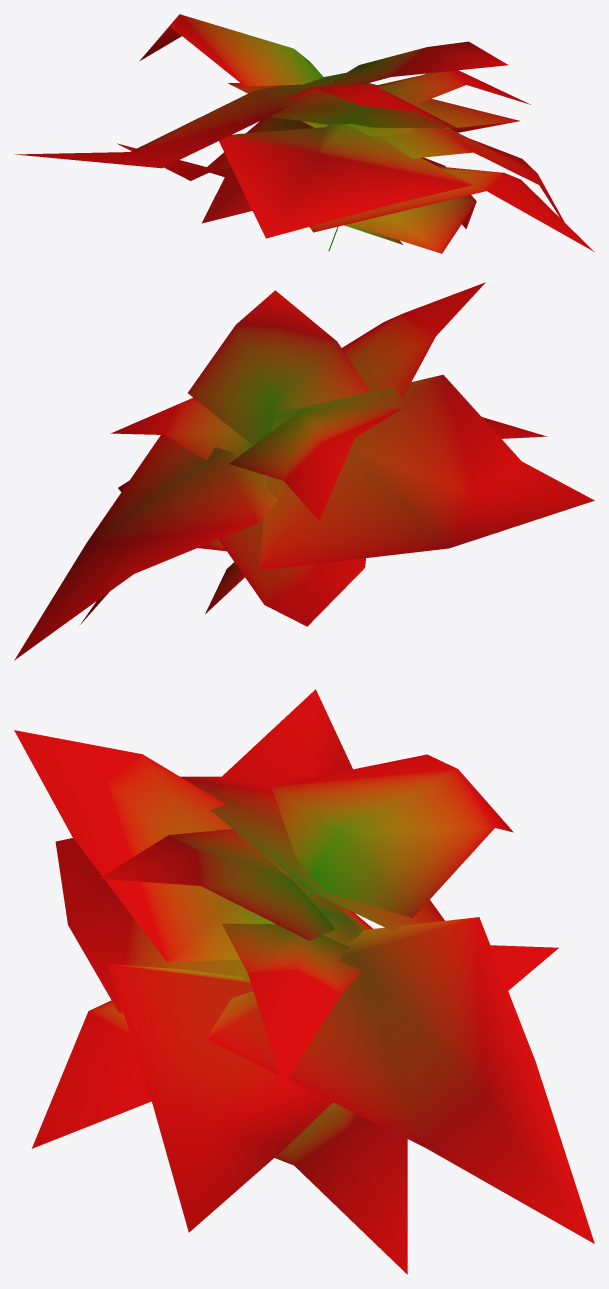
Rendered from Var6_LOD2.fbx.
3 views of the same model, one above another, from view 1: azimuth 30°, elevation 25°; view 2: azimuth 150°, elevation 25°; view 3: azimuth 270°, elevation 25° (orthographic). The views are drawn at different scales.
Visible parts, largest first — view 1: _2258_Var6_LOD2; view 2: _2258_Var6_LOD2; view 3: _2258_Var6_LOD2.
Boxes of the visible parts, x1,y1,x2,y2 form: _2258_Var6_LOD2: [15, 14, 594, 253]; _2258_Var6_LOD2: [14, 282, 594, 660]; _2258_Var6_LOD2: [14, 689, 594, 1274].
Bounding box in the file's own units: 114 × 63.75 × 87.61.
